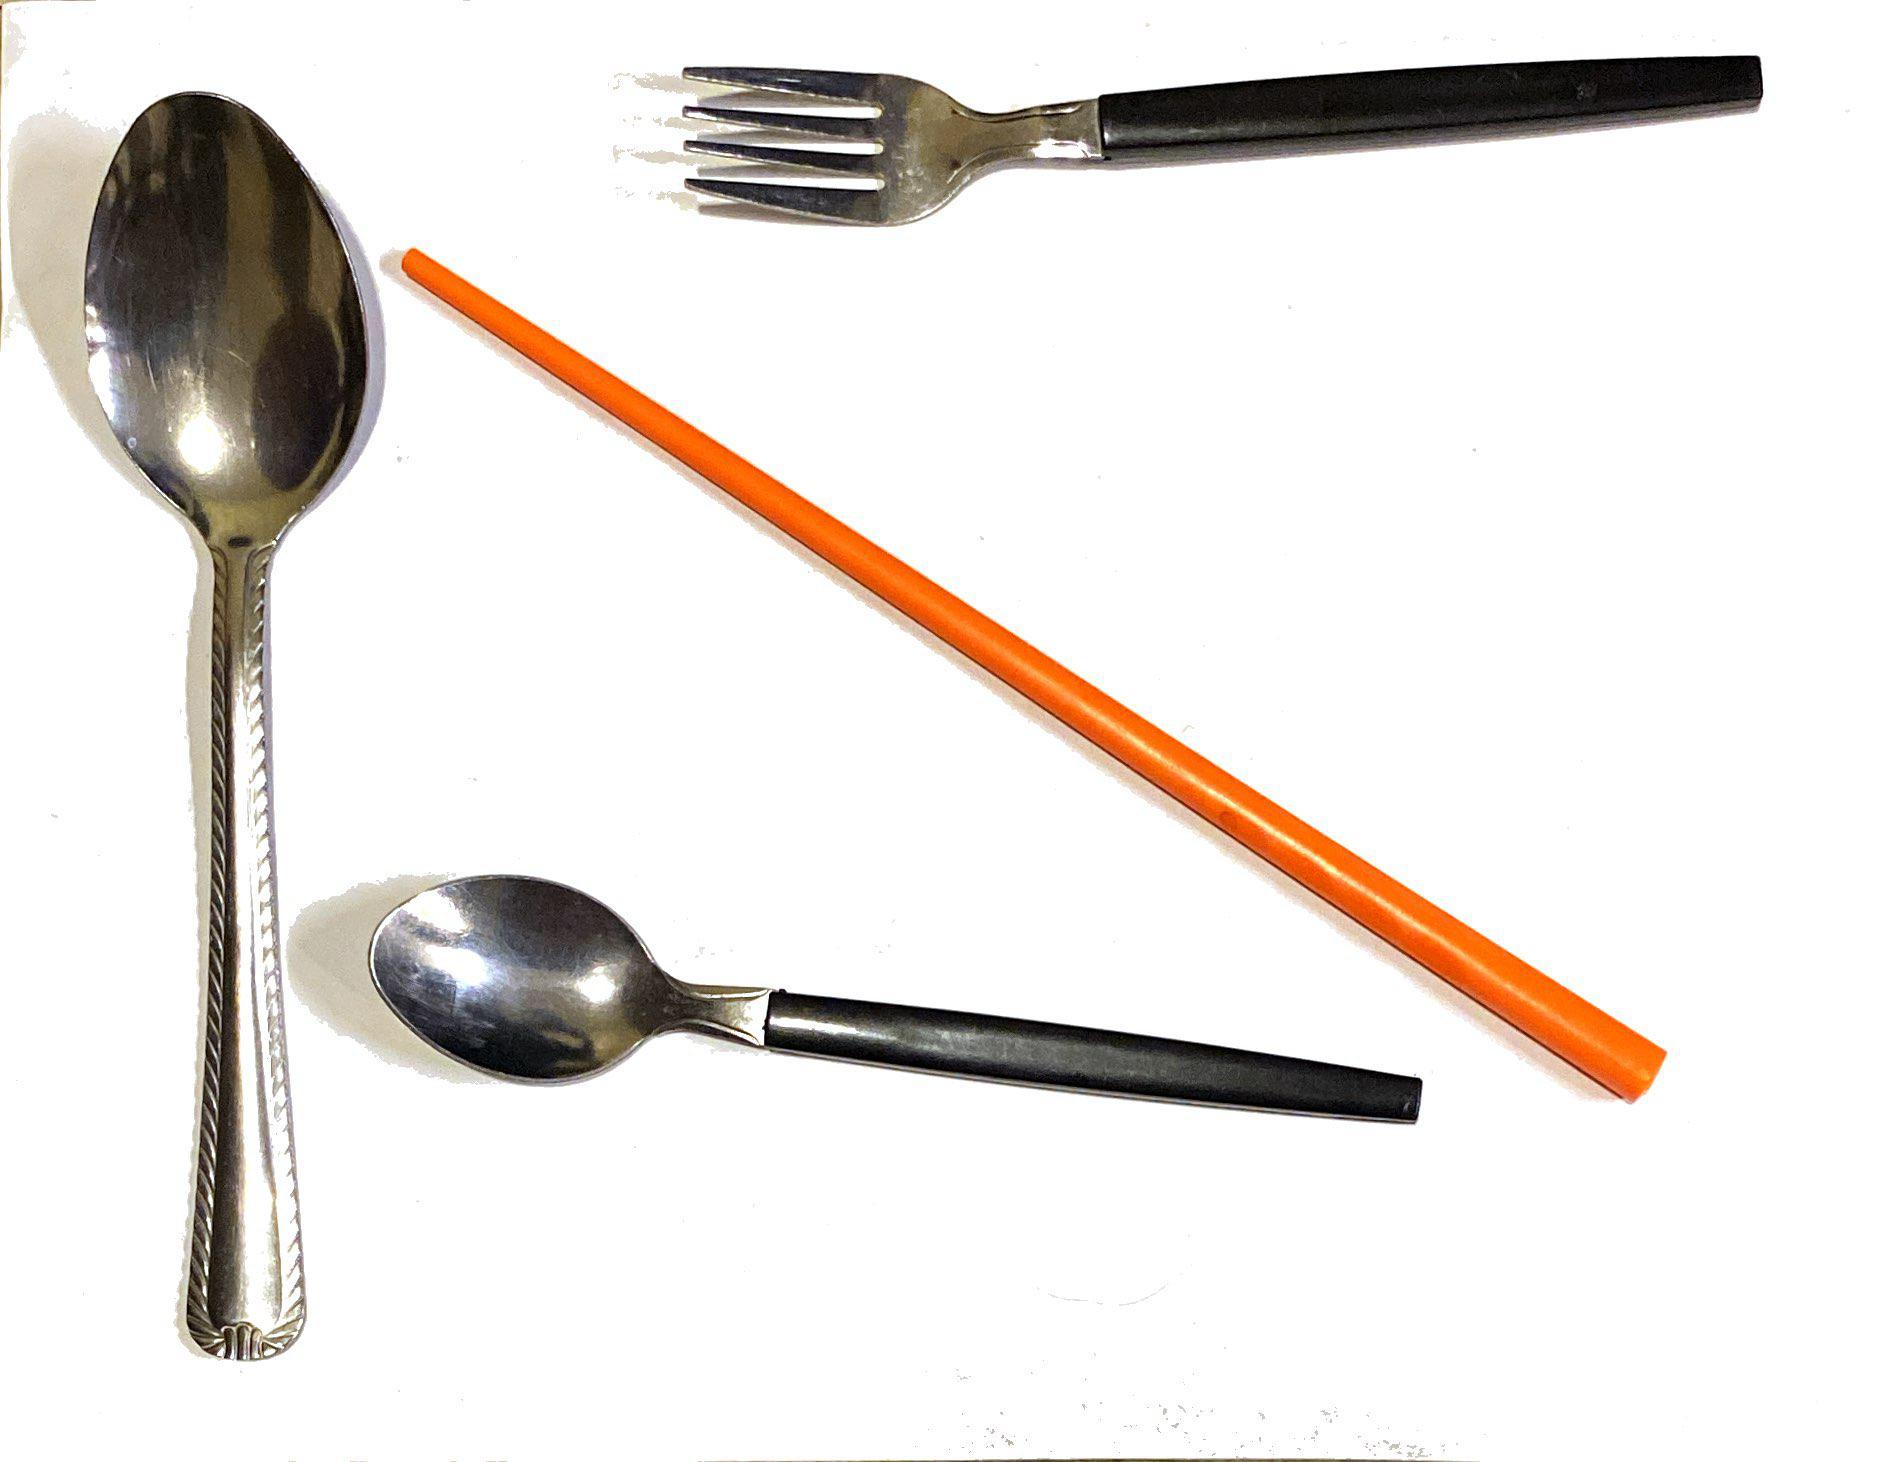Chopstick: (395, 220, 1714, 1107)
Fork: (637, 17, 1833, 303)
Spoon: (31, 35, 378, 1413), (332, 871, 1448, 1250)
